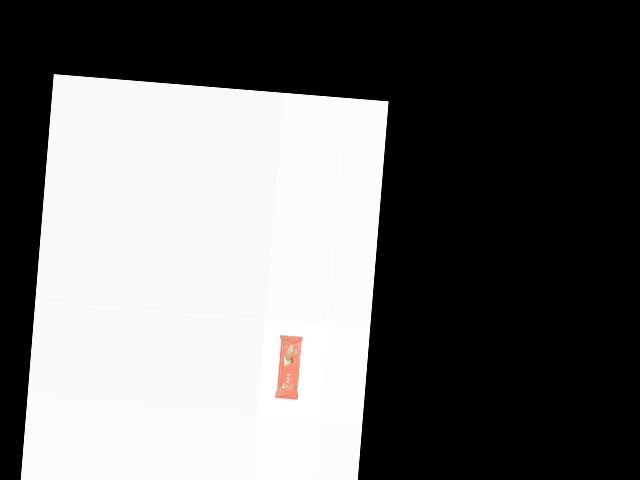chocolate: (275, 335, 303, 402)
